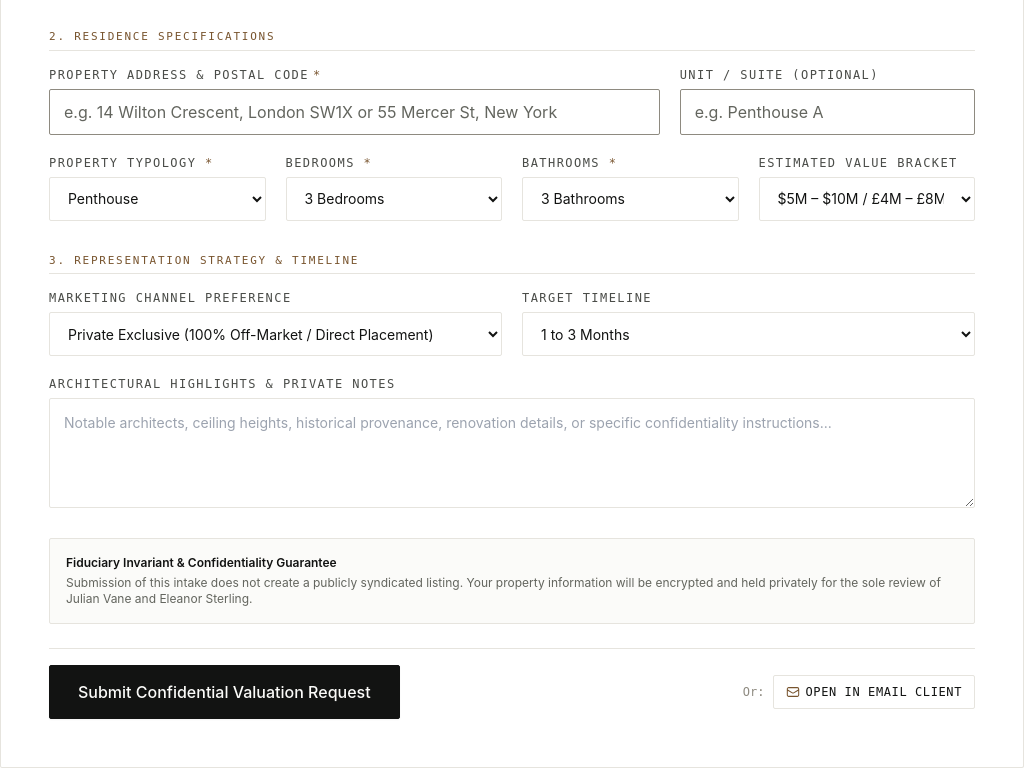
Test: Milestone 4: Brand Pages & Inquiry Components › SellInquiryForm › validates empty required fields and renders accessible role=alert error summary
This screenshot has width=1024, height=768.
(page scrolled)
Click the button "Submit Confidential Valuation Request" at (224, 692), box [49,665,400,719]
(page scrolled)
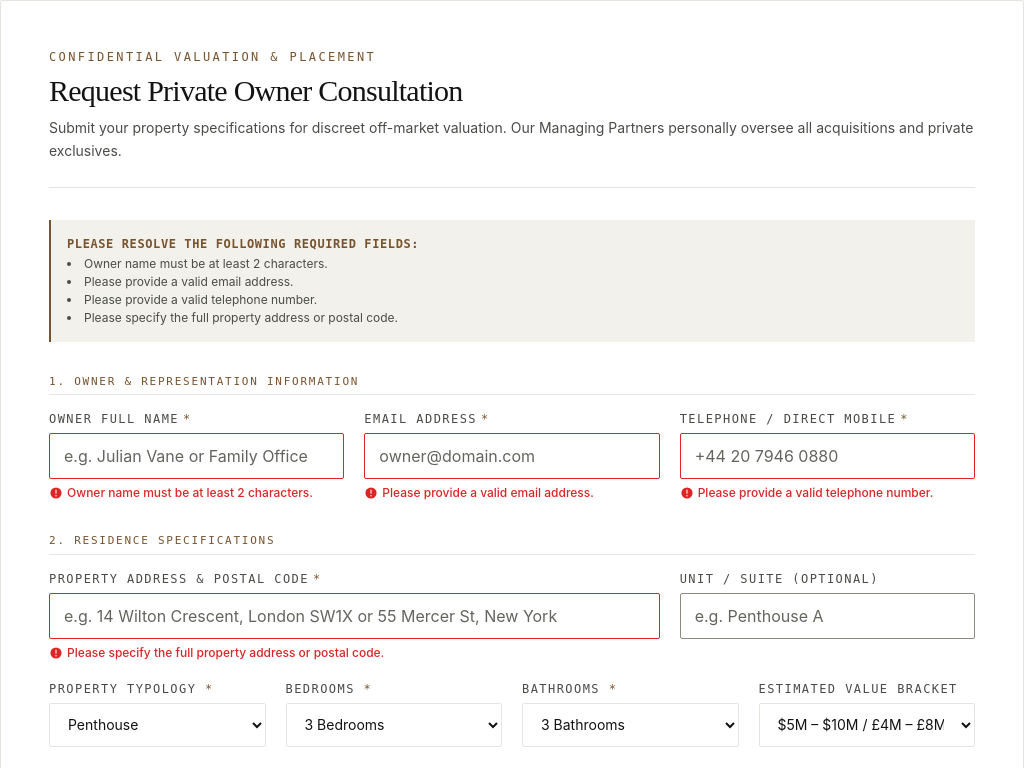
Expected: the 1st message is shown, [49,220,975,342]
Expected: the list item "Owner name must be at least 2 characters." is shown, [84,256,328,270]
Expected: the list item "Please provide a valid email address." is shown, [84,274,294,288]
